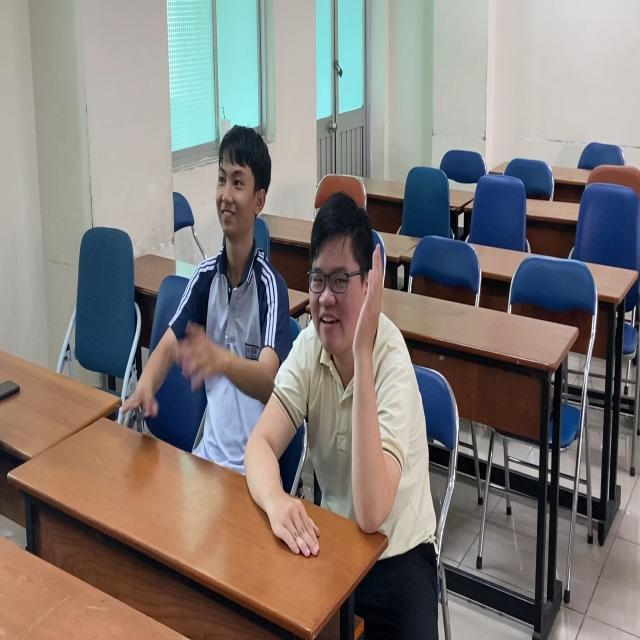raise_hand: (251, 198, 415, 546)
